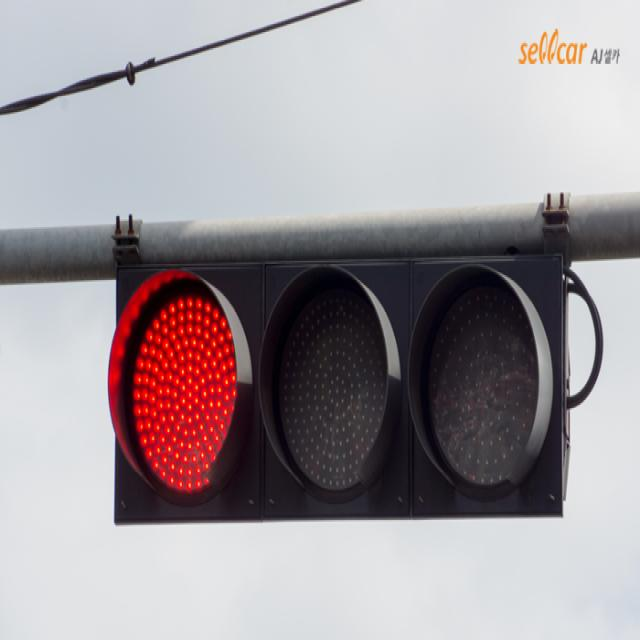Red Light: (114, 258, 253, 518)
